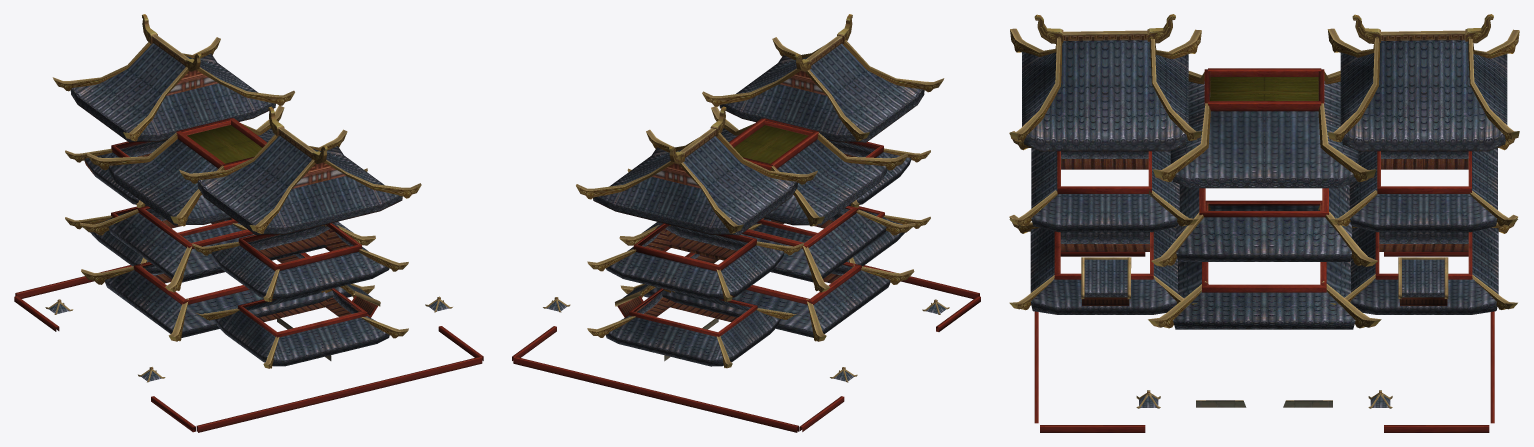
File: Yland1_fz_11 Yland1.FBX
3 renders of one model, left to right at view 1: azimuth 30°, elevation 25°; view 2: azimuth 150°, elevation 25°; view 3: azimuth 270°, elevation 25°, orthographic. The views are drawn at different scales.
Visible parts, largest first — view 1: Yland1_fz_11 Yland1; view 2: Yland1_fz_11 Yland1; view 3: Yland1_fz_11 Yland1.
Part boxes in pixels (x1,y1,x2,y2): Yland1_fz_11 Yland1: (14,14,483,432); Yland1_fz_11 Yland1: (512,14,980,432); Yland1_fz_11 Yland1: (1009,14,1519,432).
Bounding box in the file's own units: 22.26 × 19.34 × 25.58.
